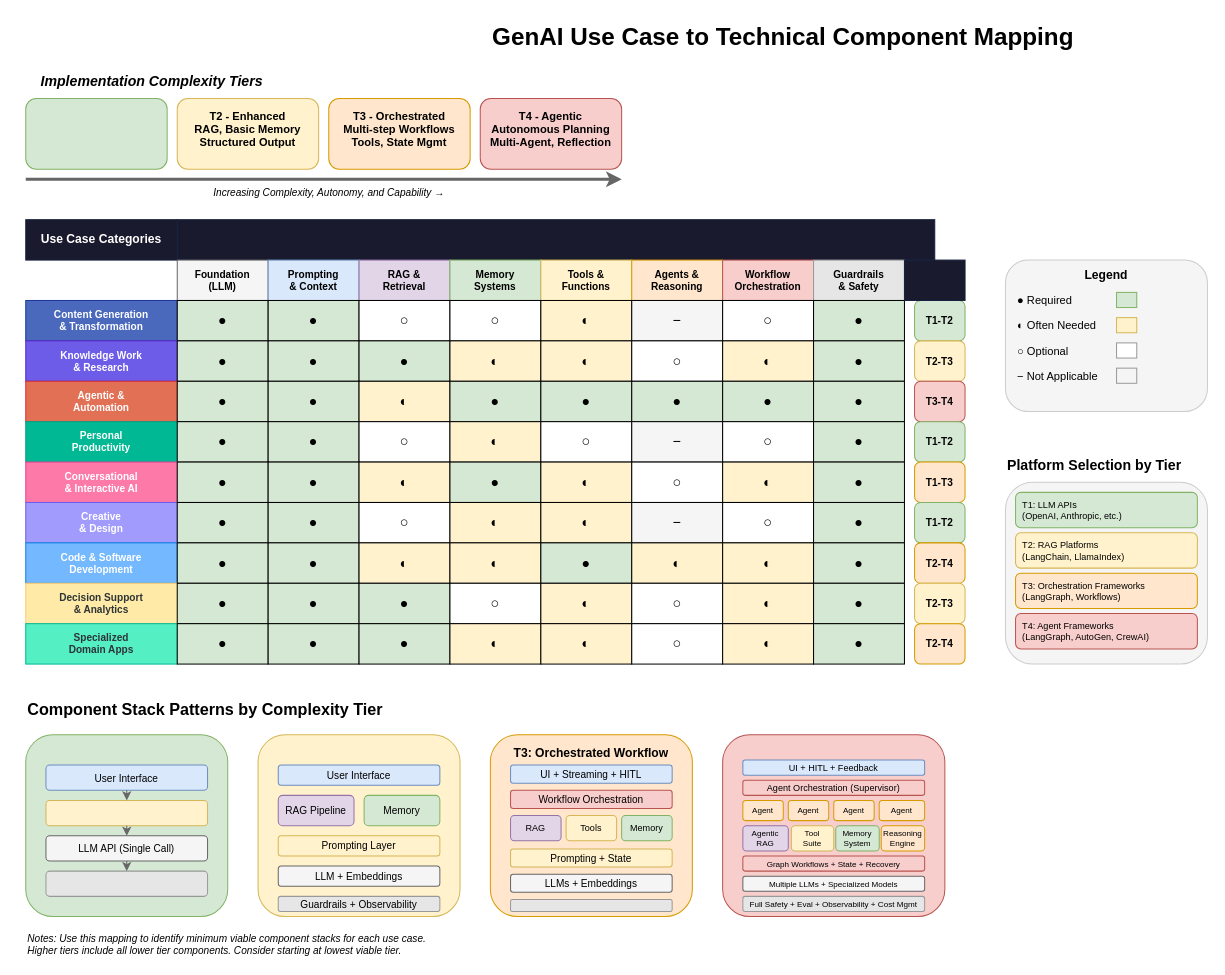
This 1225x975 diagram has some shape labels left out. Each missing label, with the box of its shape:
Basic Guardrails: (45, 870, 208, 896)
Full Guardrails + Observability: (510, 898, 672, 912)
Required Technical Component Layers: (176, 219, 935, 260)
System Prompt + Few-shot: (45, 799, 208, 826)
T1 - Basic Single LLM, No RAG Minimal Orchestration: (25, 97, 167, 169)
T1: Simple Assistant: (25, 734, 228, 917)
T2: RAG-Enhanced: (257, 734, 460, 917)
T4: Agentic System: (722, 734, 945, 917)
Typical Tier: (903, 259, 965, 300)
